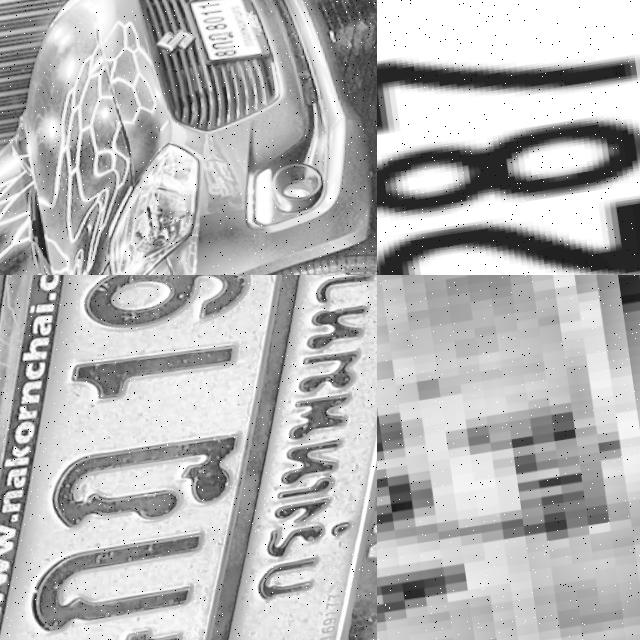license-plate: (0, 275, 377, 640), (377, 275, 640, 640), (377, 0, 640, 275), (187, 0, 267, 70)
